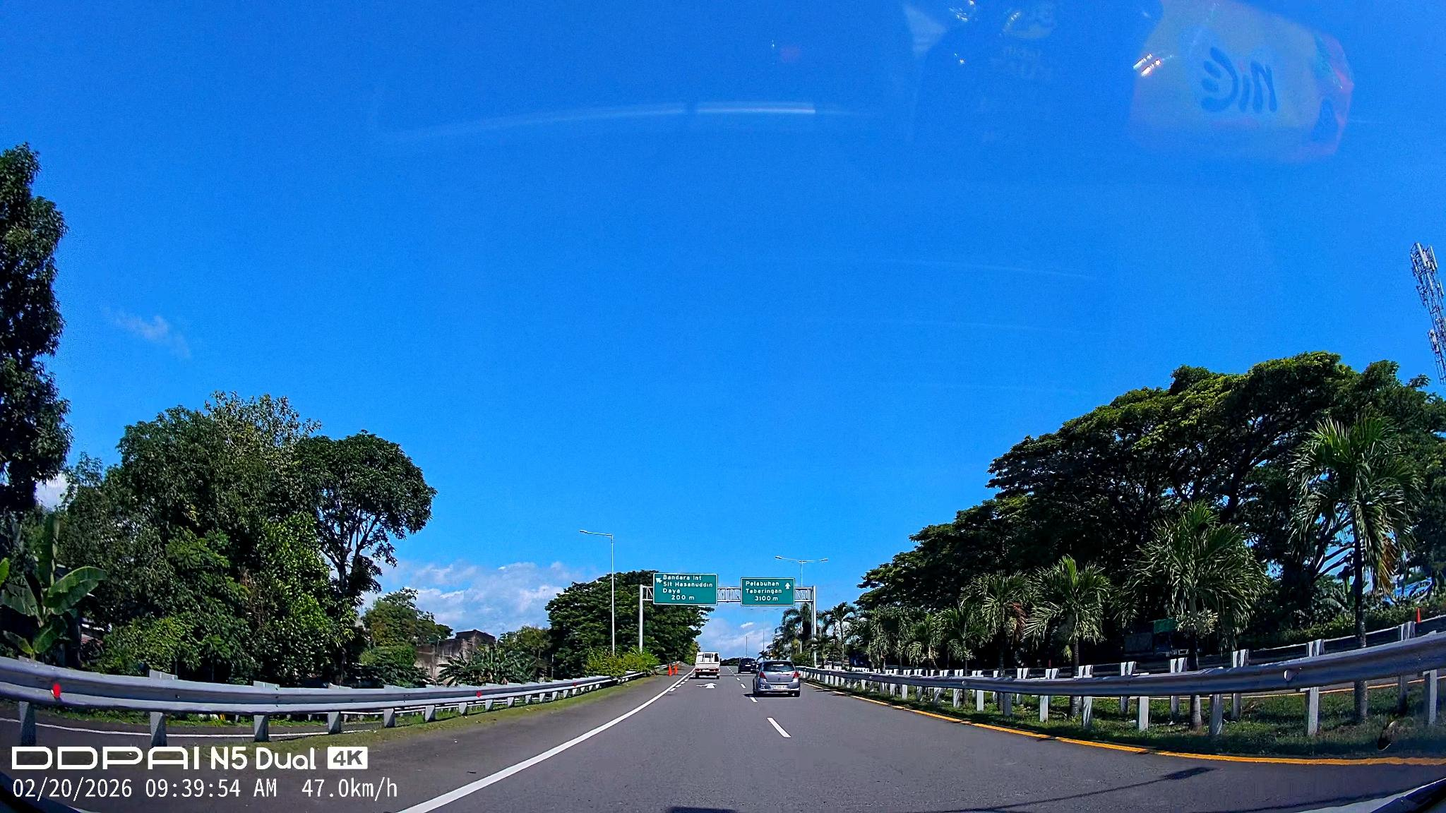rambu_teks: (654, 573, 718, 605), (741, 577, 795, 606)
